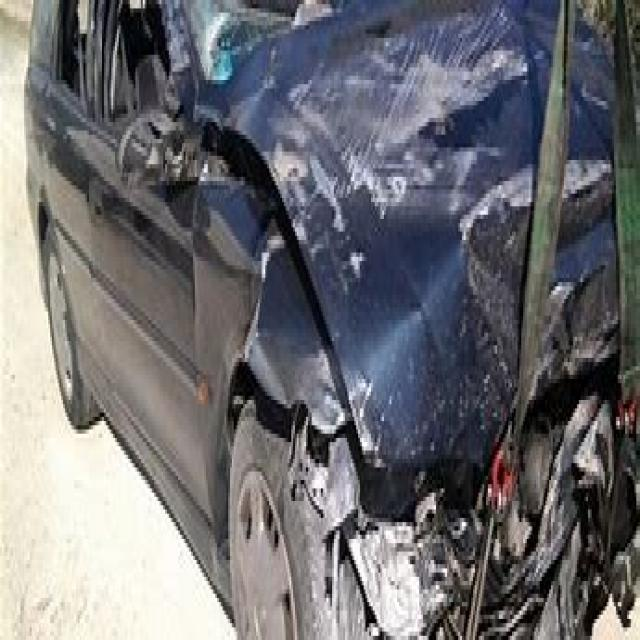Accident: (189, 75, 640, 640)
